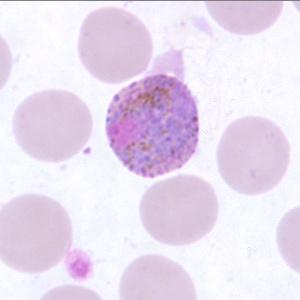Infected: (106, 73, 201, 178)
Uninfected: (215, 116, 290, 195), (14, 89, 91, 163), (0, 195, 73, 273), (141, 175, 221, 245), (78, 6, 152, 80)
